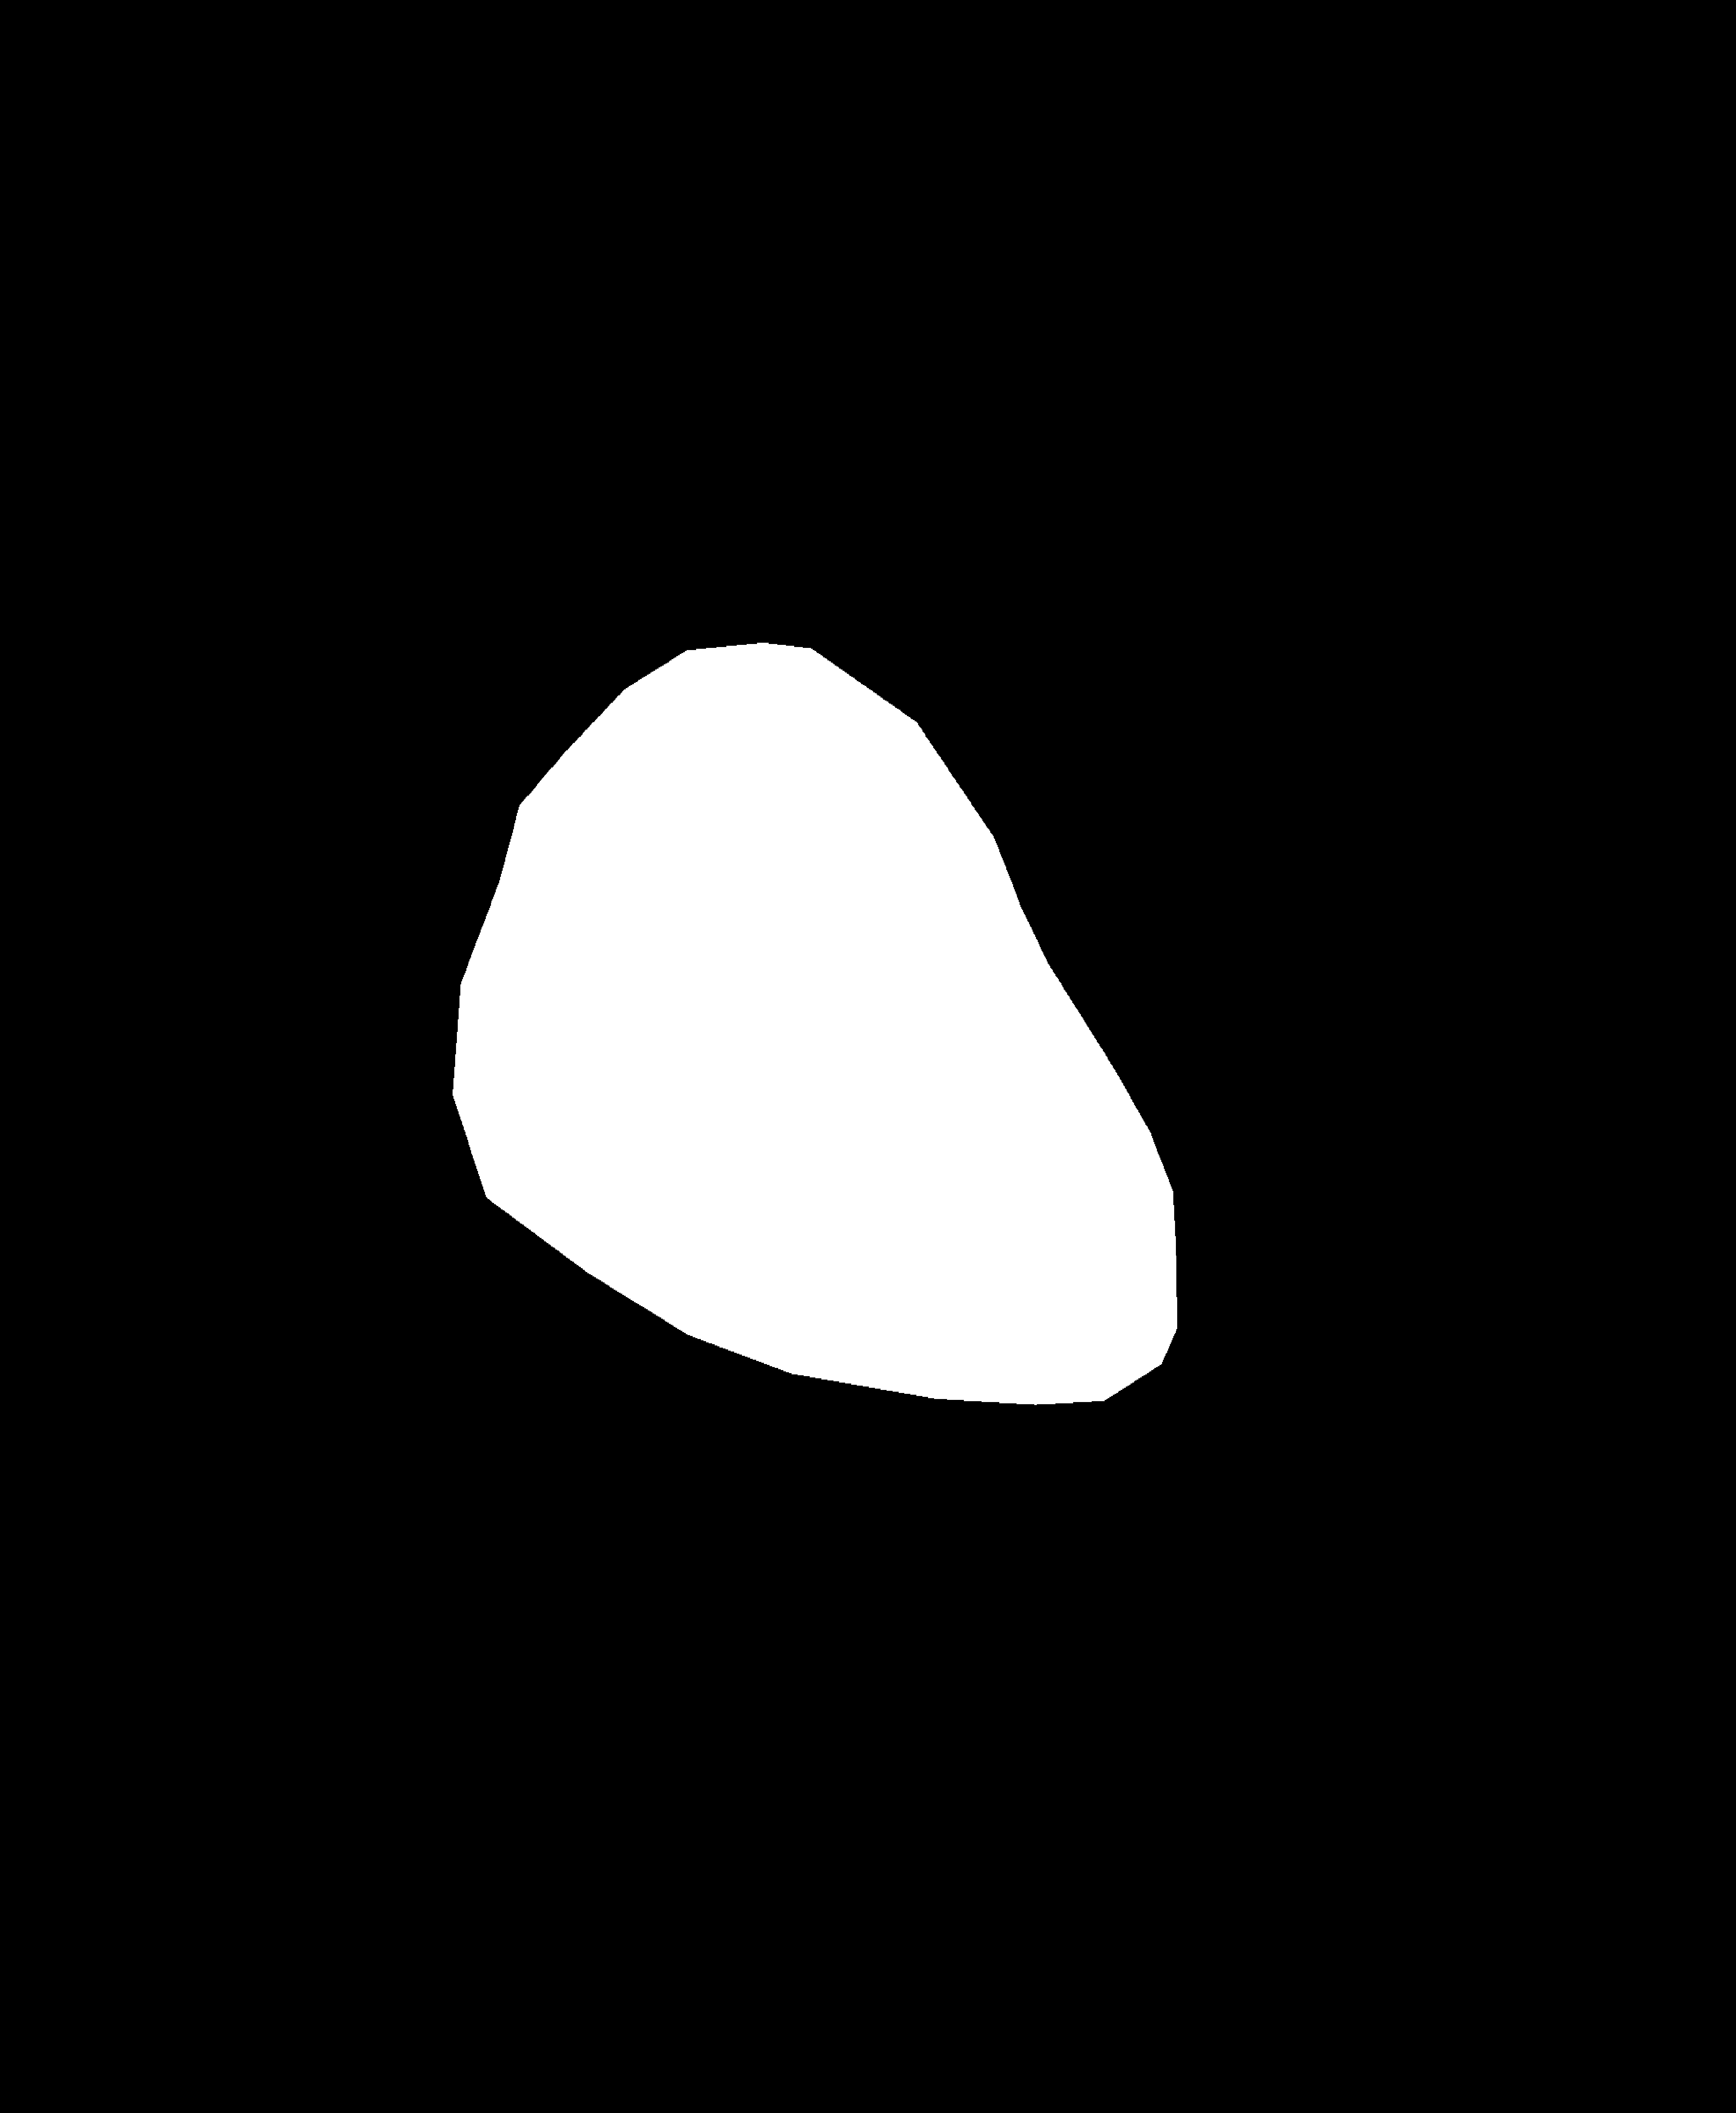heart: (446, 879, 1181, 1409)
left_lung: (63, 156, 674, 1592)
right_lung: (830, 167, 1474, 1609)
